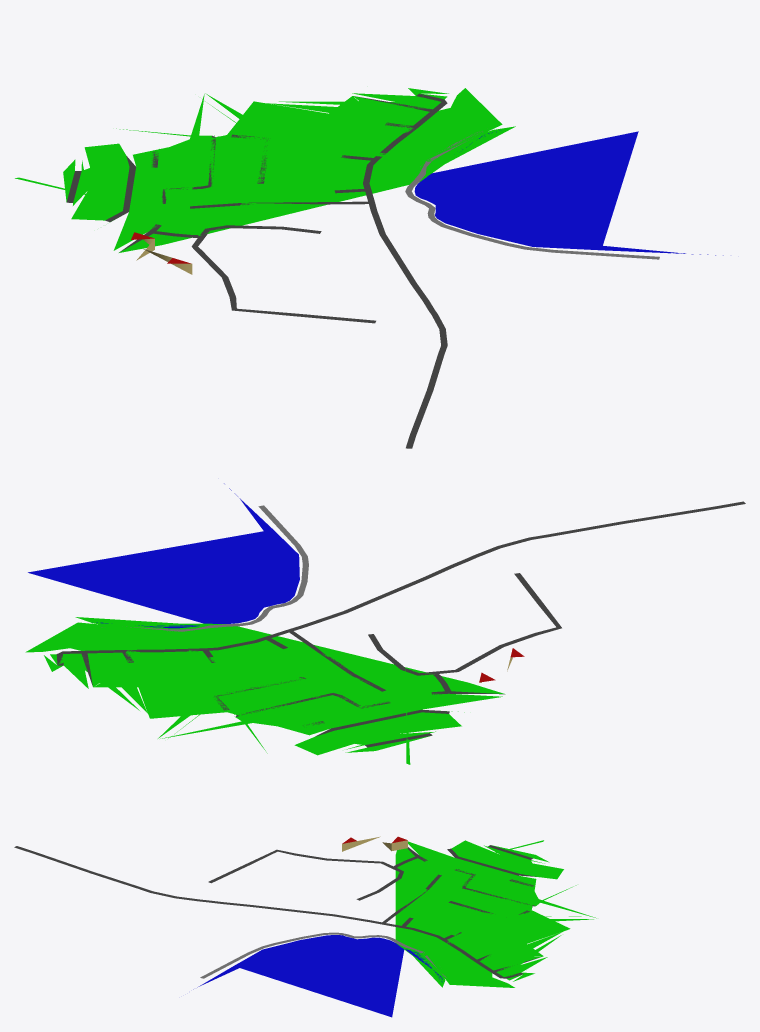
3 renders of one model, top to bottom at view 1: azimuth 30°, elevation 25°; view 2: azimuth 150°, elevation 25°; view 3: azimuth 270°, elevation 25°, orthographic. The views are drawn at different scales.
Bounding box in the file's own units: 360 × 7.5 × 627.
